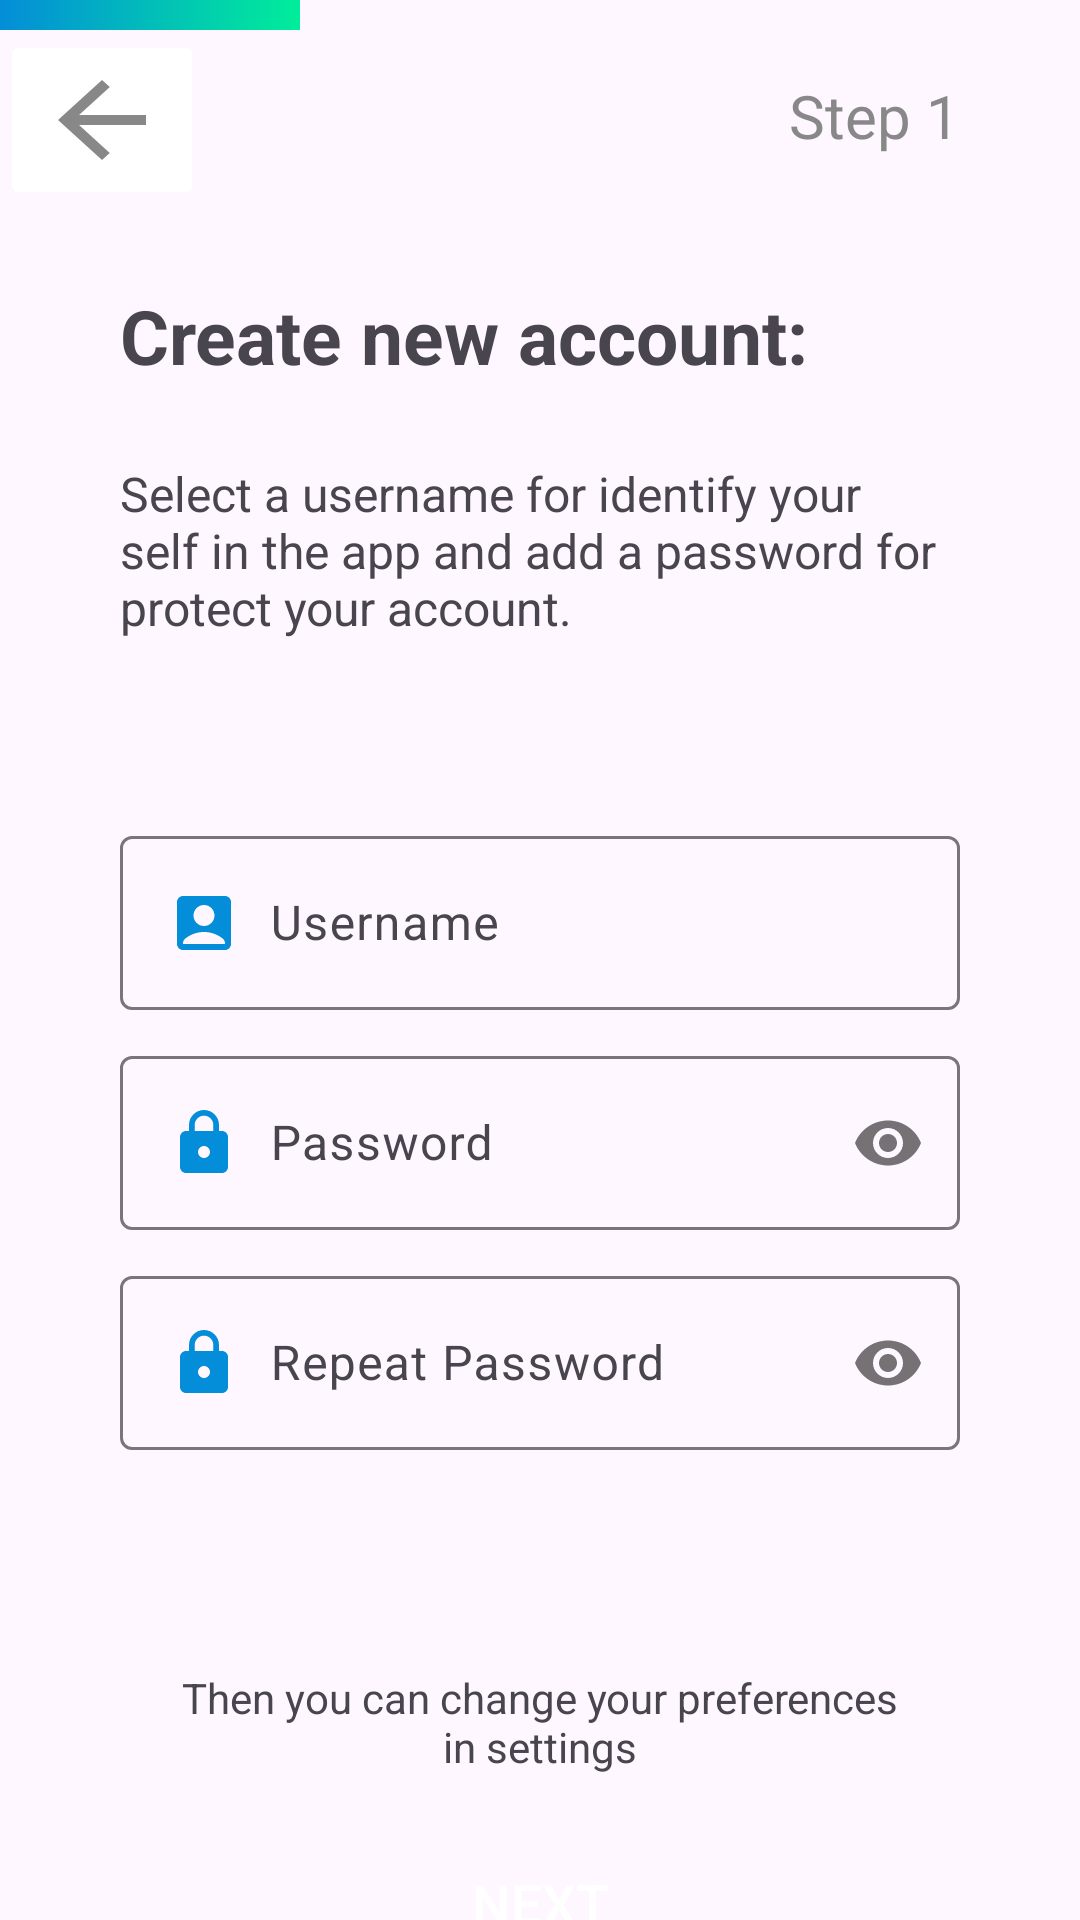

Screen size 1080px×1920px. Icon name, then its box in pixels as (x1,y1,x2,y2):
go back: (58,80,146,160)
